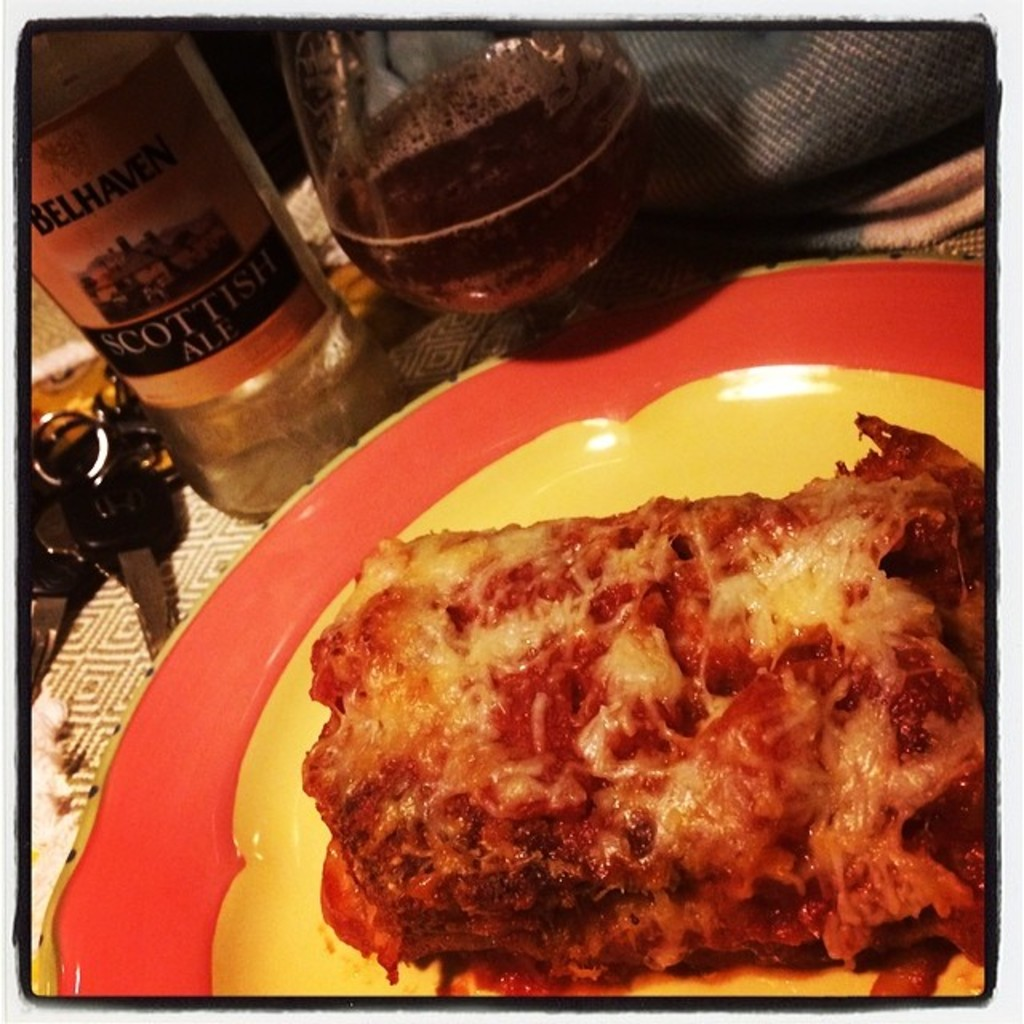Pizza: (308, 455, 956, 1001)
